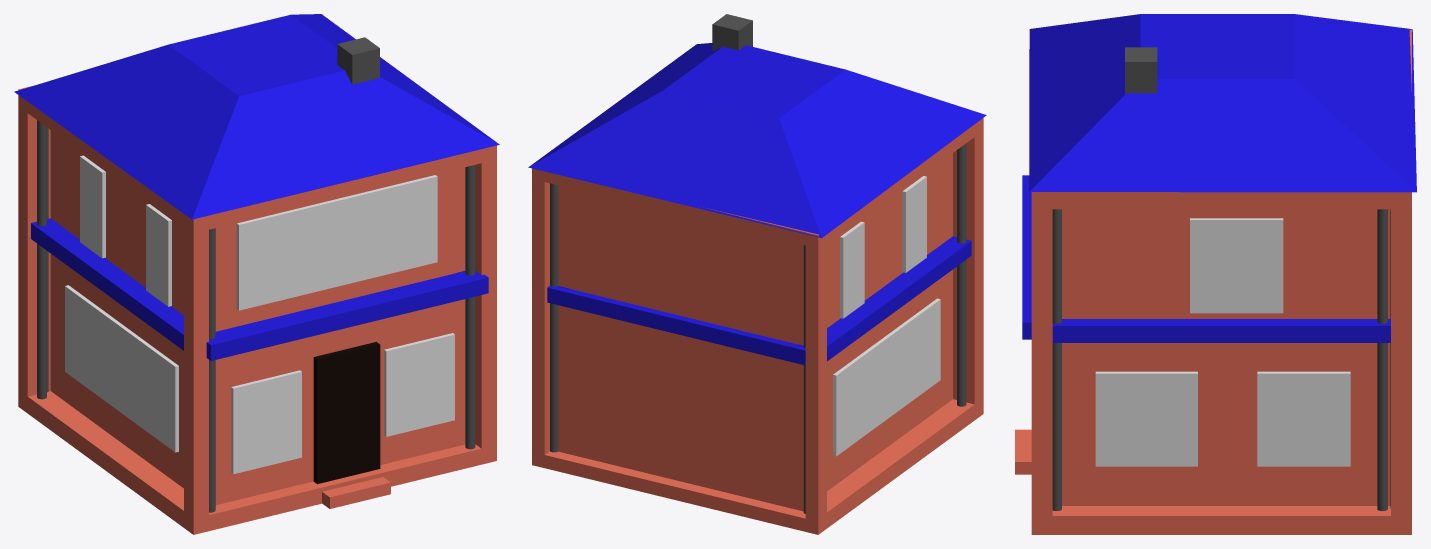
File: House2.fbx
3 renders of one model, left to right at view 1: azimuth 30°, elevation 25°; view 2: azimuth 150°, elevation 25°; view 3: azimuth 270°, elevation 25°, orthographic. The views are drawn at different scales.
Visible parts, largest first — view 1: Cube, Cube.001, Cube.002, Cube.008, Cube.004, Cube.012, Cube.006, Cube.003, Cube.013, Cylinder, Cylinder.006, Cube.011 (+4 smaller); view 2: Cube, Cube.001, Cube.008, Cube.014, Cube.013, Cylinder.007, Cylinder.004, Cube.009, Cube.011, Cube.016, Cylinder.005; view 3: Cube, Cube.001, Cube.017, Cube.018, Cube.007, Cube.015, Cylinder.003, Cylinder.002, Cube.012, Cube.016, Cube.005.
Boxes of the visible parts, x1=… form: Cube: x1=18, y1=85, x2=496, y2=534; Cube.001: x1=14, y1=14, x2=499, y2=219; Cube.002: x1=236, y1=175, x2=437, y2=310; Cube.008: x1=65, y1=285, x2=178, y2=452; Cube.004: x1=313, y1=342, x2=380, y2=484; Cube.012: x1=206, y1=271, x2=488, y2=360; Cube.006: x1=384, y1=333, x2=454, y2=436; Cube.003: x1=231, y1=370, x2=301, y2=474; Cube.013: x1=31, y1=218, x2=183, y2=350; Cylinder: x1=465, y1=165, x2=475, y2=449; Cylinder.006: x1=37, y1=120, x2=46, y2=399; Cube.011: x1=80, y1=155, x2=105, y2=258; Cube: x1=532, y1=118, x2=983, y2=534; Cube.001: x1=528, y1=43, x2=986, y2=237; Cube.008: x1=833, y1=298, x2=940, y2=456; Cube.014: x1=547, y1=286, x2=805, y2=365; Cube.013: x1=797, y1=236, x2=971, y2=361; Cylinder.007: x1=957, y1=143, x2=966, y2=406; Cylinder.004: x1=550, y1=183, x2=558, y2=452; Cube.009: x1=902, y1=176, x2=926, y2=272; Cube.011: x1=840, y1=221, x2=864, y2=318; Cube.016: x1=712, y1=14, x2=752, y2=51; Cylinder.005: x1=803, y1=245, x2=805, y2=513; Cube: x1=1031, y1=29, x2=1411, y2=534; Cube.001: x1=1029, y1=14, x2=1416, y2=192; Cube.017: x1=1095, y1=371, x2=1197, y2=466; Cube.018: x1=1257, y1=371, x2=1350, y2=466; Cube.007: x1=1190, y1=218, x2=1283, y2=313; Cube.015: x1=1052, y1=319, x2=1390, y2=342; Cylinder.003: x1=1377, y1=209, x2=1387, y2=510; Cylinder.002: x1=1052, y1=209, x2=1061, y2=510; Cube.012: x1=1022, y1=175, x2=1031, y2=339; Cube.016: x1=1125, y1=47, x2=1157, y2=93; Cube.005: x1=1015, y1=429, x2=1031, y2=474.
Size of the model in its own units: 4102 by 5059 by 4250.
